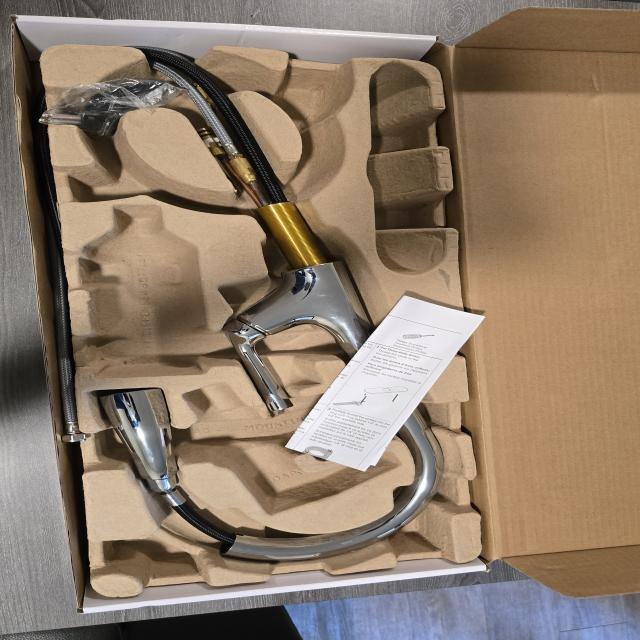1o: (99, 46, 450, 564)
2m: (186, 382, 398, 514)
3m: (82, 205, 207, 378)
4m: (365, 61, 446, 274)
5m: (278, 74, 346, 120)
6m: (65, 141, 205, 204)
7: (35, 79, 192, 138)
8: (284, 295, 488, 473)
